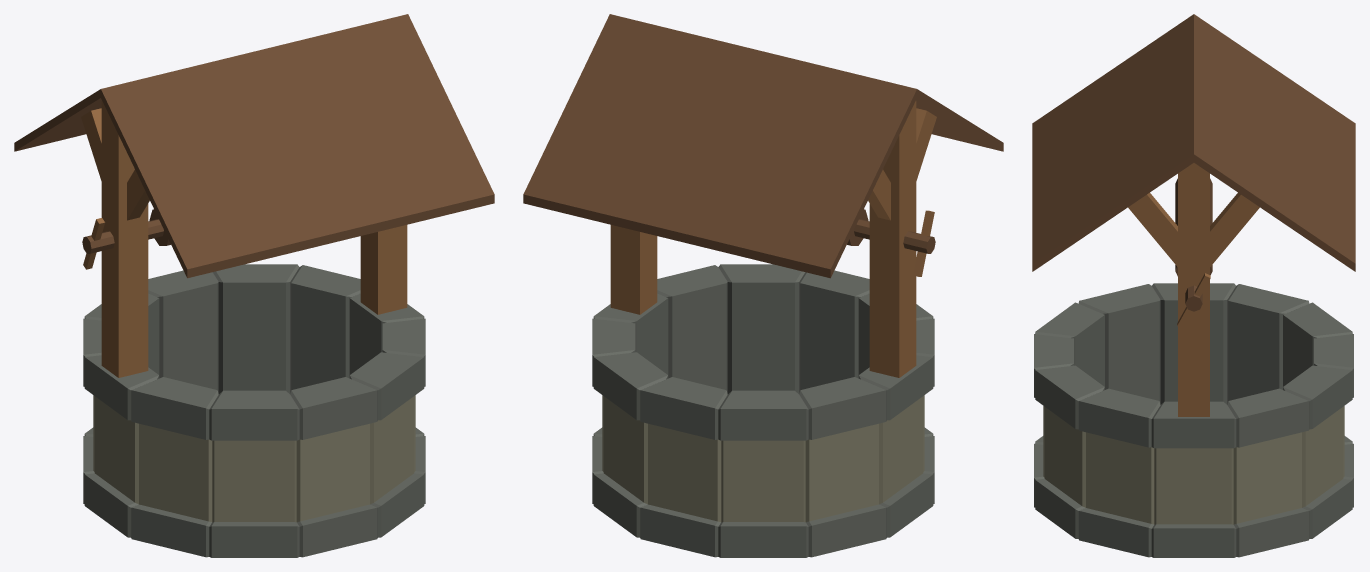
The model's file is Well_base_mat.fbx.
3 views of the same model, side by side, from view 1: azimuth 30°, elevation 25°; view 2: azimuth 150°, elevation 25°; view 3: azimuth 270°, elevation 25° (orthographic). The views are drawn at different scales.
Visible parts, largest first — view 1: Well_base_mat; view 2: Well_base_mat; view 3: Well_base_mat.
Boxes of the visible parts, box(x1,y1,x2,y2) form: Well_base_mat: box(14, 14, 494, 557); Well_base_mat: box(523, 14, 1003, 557); Well_base_mat: box(1032, 14, 1355, 557).
Bounding box in the file's own units: 116 × 143 × 103.
